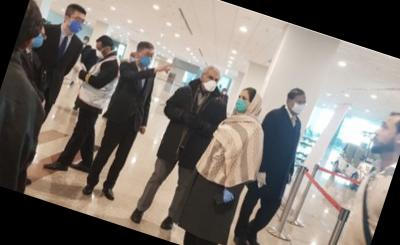with_mask: (66, 12, 87, 36), (27, 28, 47, 53), (200, 72, 221, 94), (137, 47, 157, 69), (289, 95, 308, 116), (234, 93, 252, 114), (91, 44, 109, 60)
without_mask: (368, 116, 400, 157)
